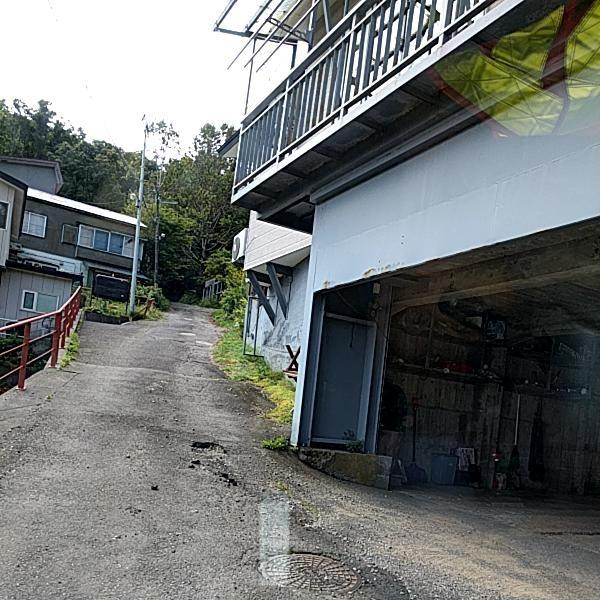pothole: (189, 440, 226, 458)
